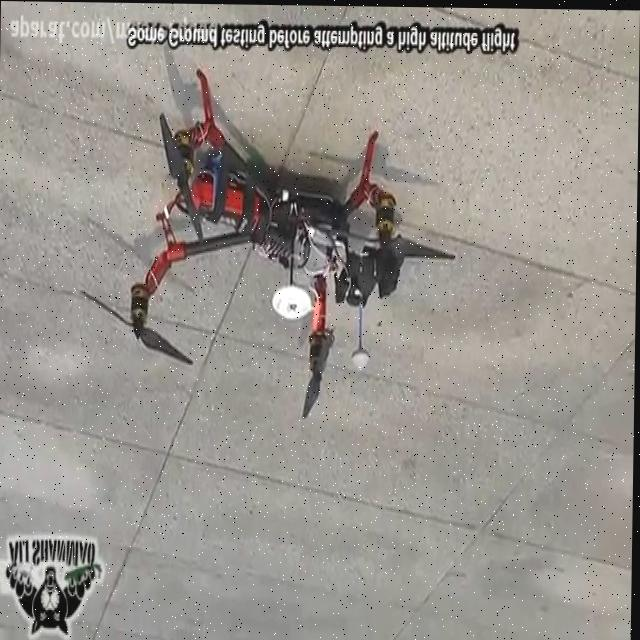drone: (71, 65, 460, 429)
